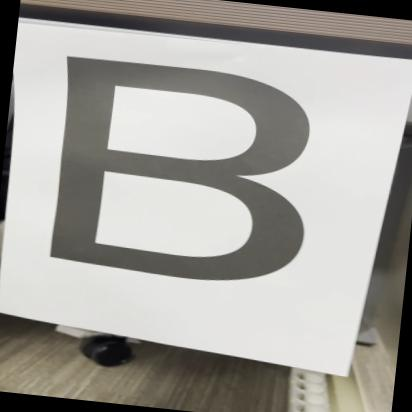seat: (10, 42, 339, 310)
